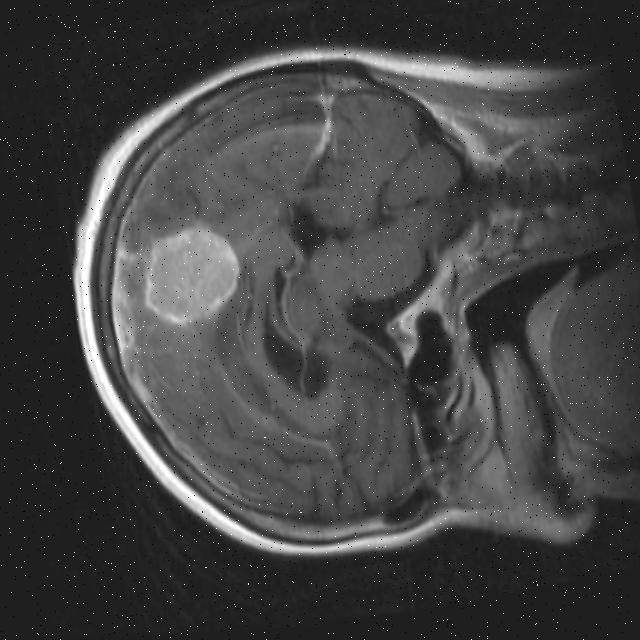Meningioma: (132, 213, 247, 332)
Pituitary: (382, 309, 425, 373)
